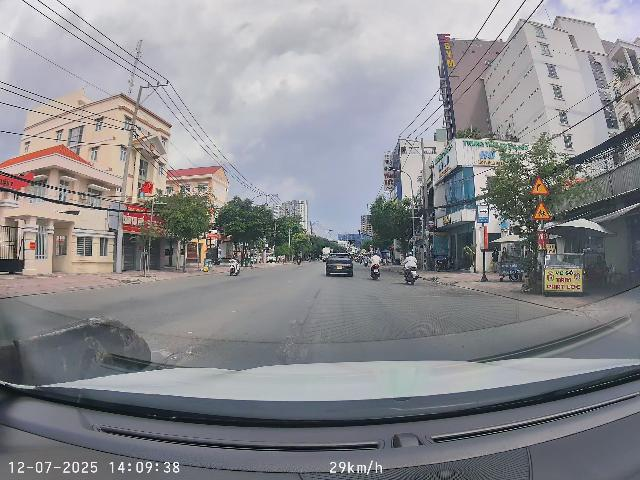201-cho-ngoat-nguy-hiem: (531, 176, 549, 195)
225-chu-y-tre-em: (533, 201, 551, 220)
